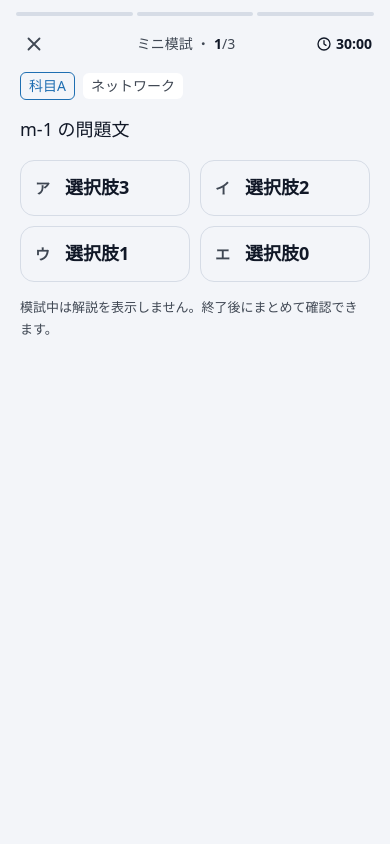
Test: 演習（S03） › 模試は解説を出さずに進み、中断すると保存する
Expected: the text "30:00" is shown, [316, 34, 372, 53]
Click the button "ア 選択肢3" at (105, 188), box [20, 160, 190, 216]
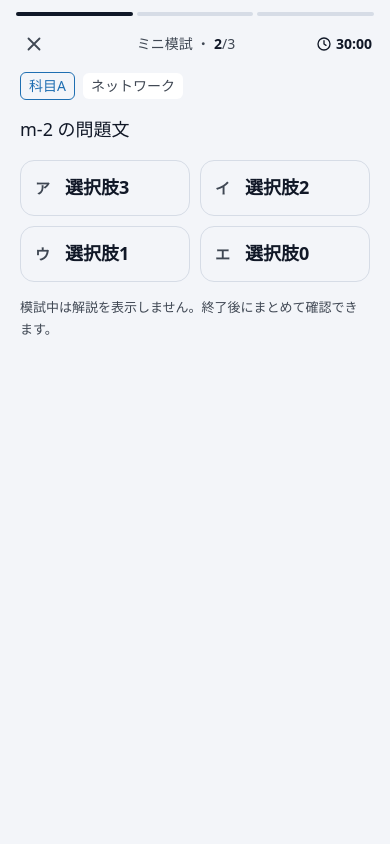
Now the heading "m-2 の問題文" is shown, box [20, 117, 130, 141]
Click the button named "模試を中断" at (34, 44), box [12, 22, 56, 66]
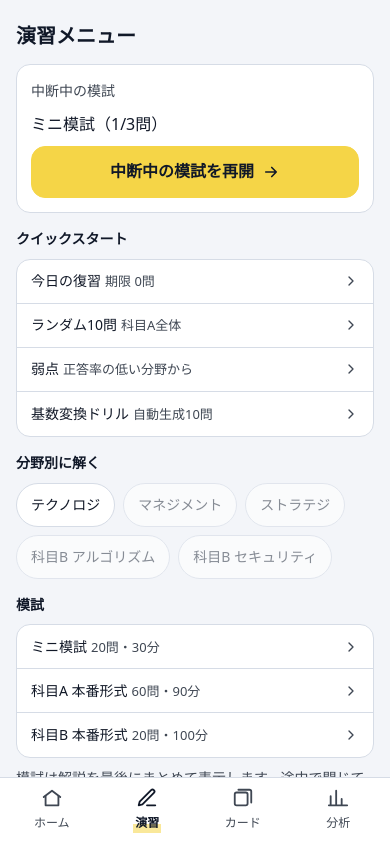
Now the button "中断中の模試を再開" is shown
Click the button "中断中の模試を再開" at (195, 172), box [31, 146, 359, 198]
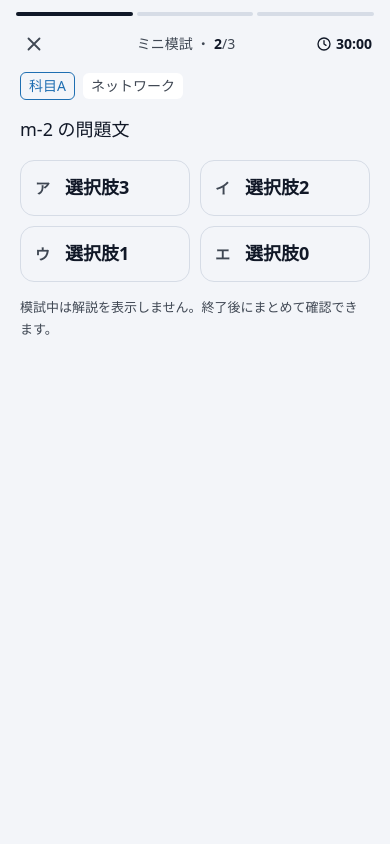
Now the heading "m-2 の問題文" is shown, box [20, 117, 130, 141]
